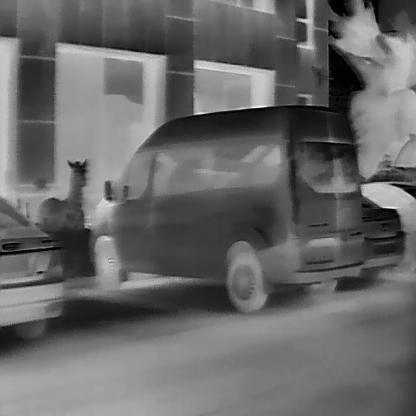car: (86, 103, 361, 311), (0, 194, 62, 327), (360, 182, 415, 262), (361, 194, 401, 273)
